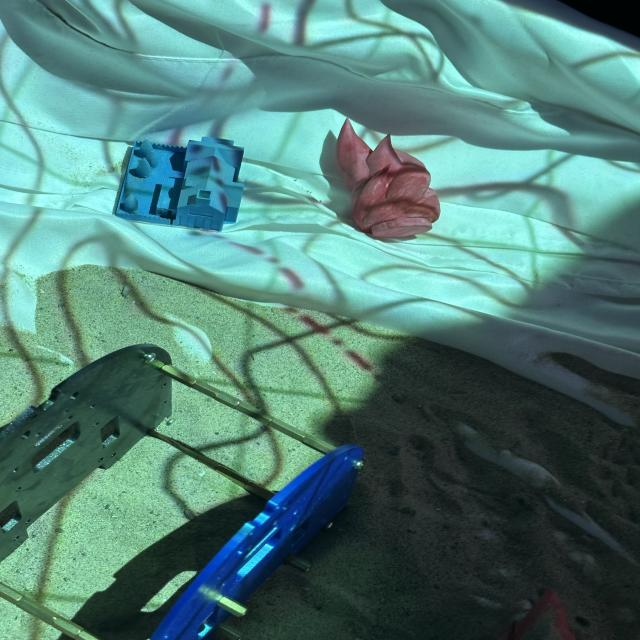fire: (330, 116, 442, 240)
house: (112, 135, 245, 232)
